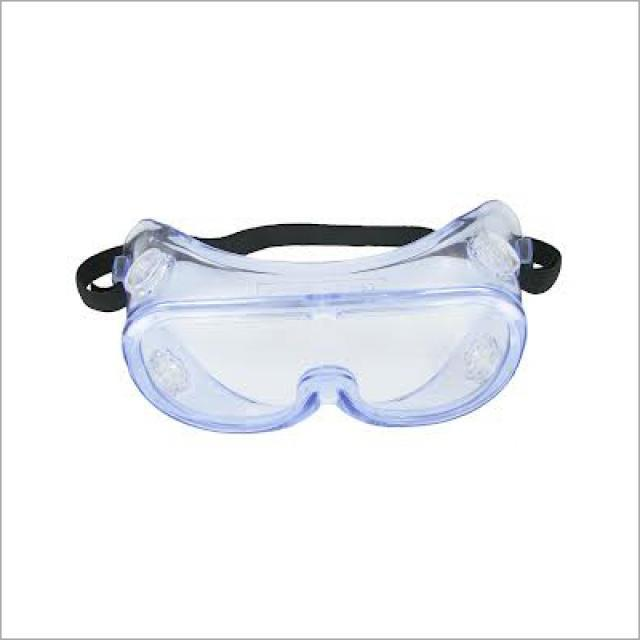Goggles: (46, 155, 585, 473)
